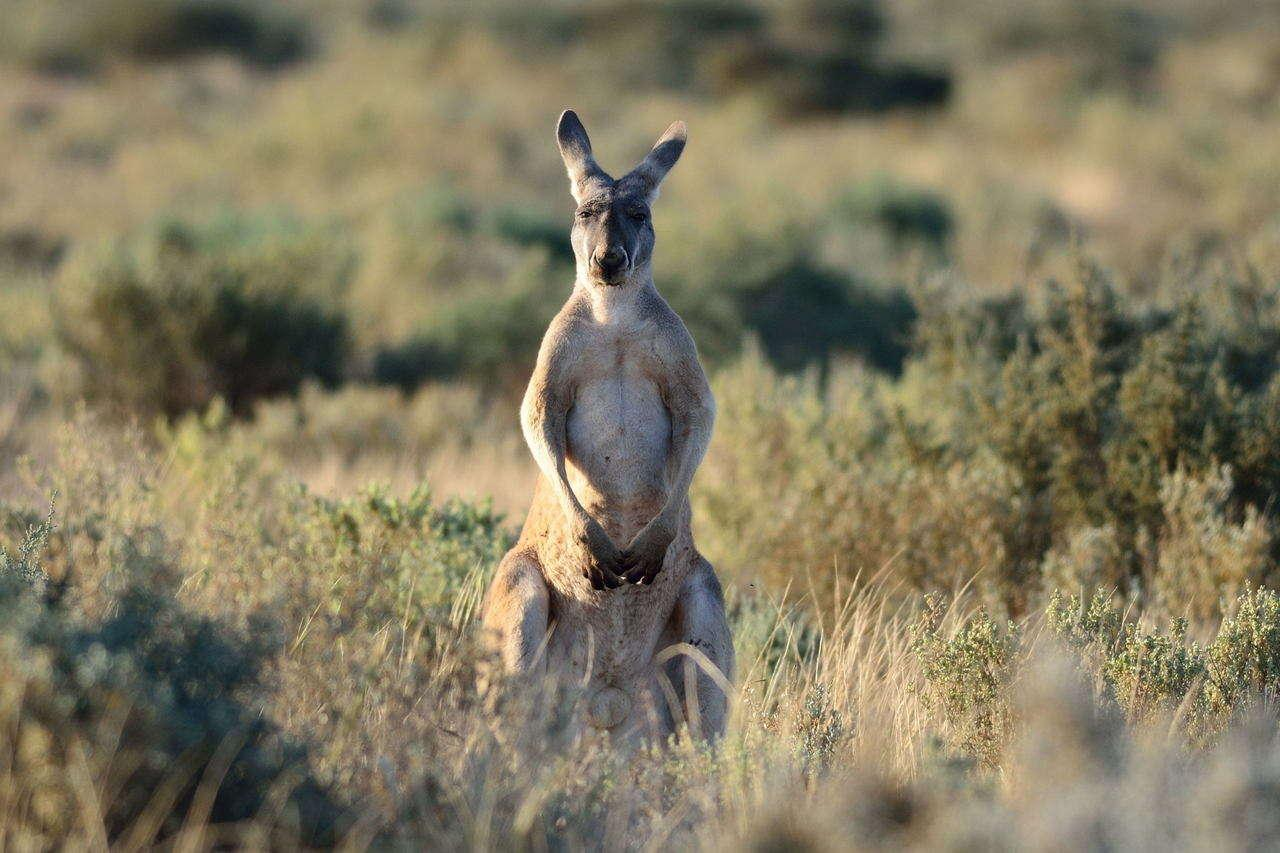Red kangaroo: (469, 112, 747, 773)
